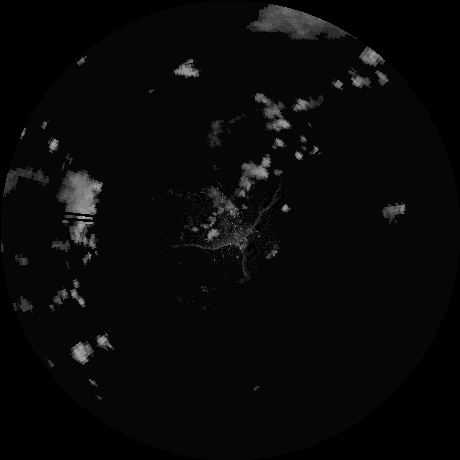frontgust: (182, 193, 279, 251)
